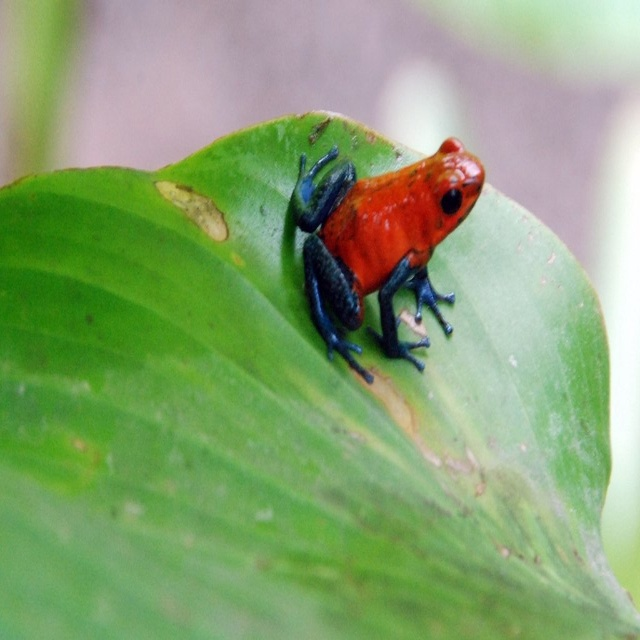Frog: (288, 135, 486, 385)
